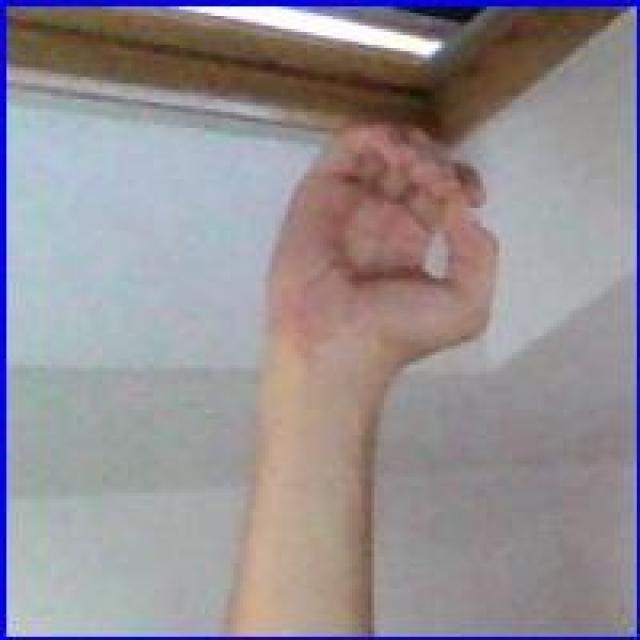O: (256, 116, 512, 390)
